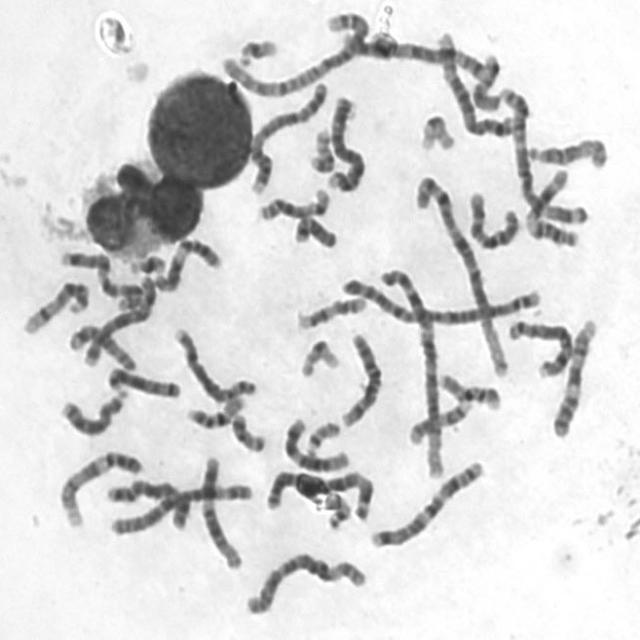A1: (408, 169, 512, 380), (373, 261, 446, 480)
A2: (215, 6, 373, 100), (332, 270, 546, 329)
A3: (495, 80, 592, 228), (262, 464, 377, 522)
B4: (244, 78, 330, 196), (322, 91, 367, 194)
B5: (326, 24, 496, 83), (433, 25, 518, 140)
C10: (338, 334, 383, 429), (464, 186, 521, 252)
C11: (520, 161, 584, 251), (146, 232, 223, 295)
C12: (195, 451, 244, 572), (280, 413, 352, 474)
C6: (103, 476, 256, 537), (239, 548, 369, 618)
C7: (364, 456, 486, 550), (55, 246, 145, 309)
C8: (169, 322, 258, 404), (502, 314, 576, 380)
C9: (55, 445, 145, 530), (547, 313, 601, 440)
D13: (55, 384, 128, 438), (102, 360, 183, 400)
D14: (18, 275, 92, 337), (252, 182, 332, 225)
D15: (64, 318, 138, 372), (522, 132, 610, 170)
E16: (434, 367, 504, 412), (182, 390, 248, 430)
E17: (404, 395, 474, 447), (292, 290, 369, 332)
E18: (468, 48, 503, 114), (289, 210, 339, 252)
F19: (296, 334, 341, 378), (415, 109, 457, 153)
F20: (227, 408, 268, 454), (305, 122, 336, 175)
G21: (232, 32, 279, 68), (124, 250, 168, 276)
G22: (302, 416, 342, 454), (320, 489, 352, 532)
X: (78, 271, 158, 368), (101, 474, 192, 531)
